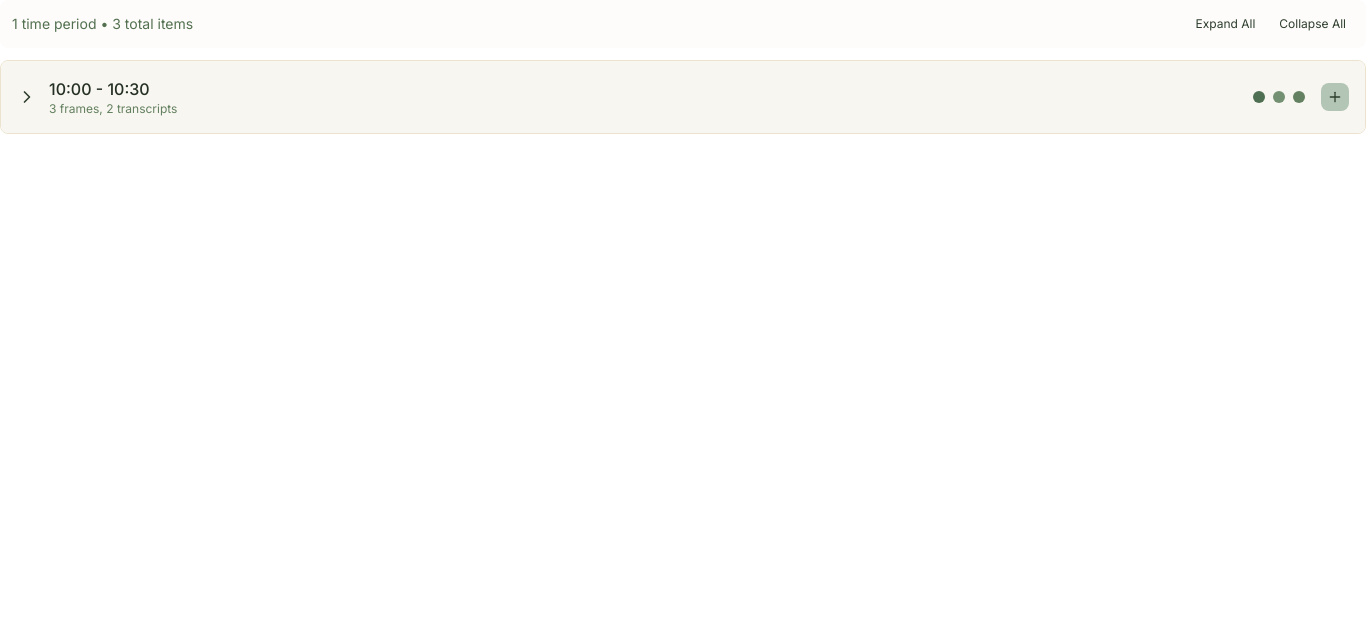
Test case: ContentViewer › displays annotations when chunk is expanded
Click the text "10:00 - 10:30": (99, 89) [49,79,150,99]
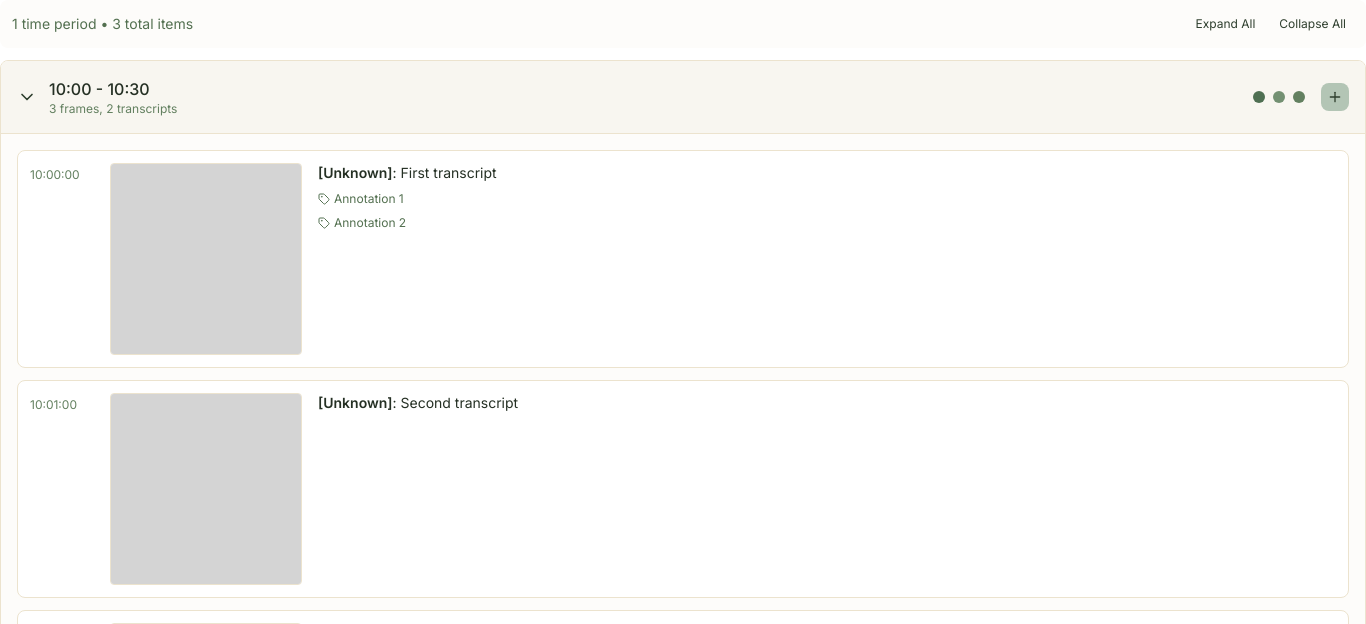
Now the text "Annotation 1" is shown, box [334,191,404,207]
Now the text "Annotation 2" is shown, box [334,215,406,231]
